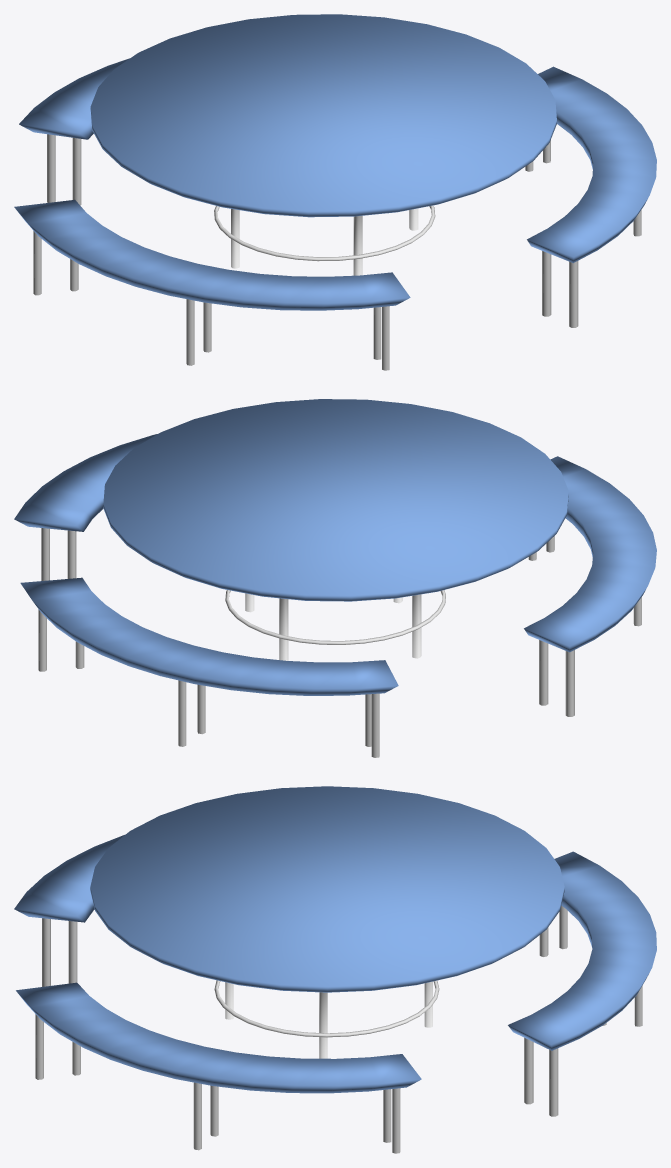
The model's file is Patio_Mesa.fbx.
The picture shows the model from 3 angles, top to bottom: view 1: azimuth 30°, elevation 25°; view 2: azimuth 150°, elevation 25°; view 3: azimuth 270°, elevation 25°; orthographic projection.
Visible parts, largest first — view 1: Patio_Mesa; view 2: Patio_Mesa; view 3: Patio_Mesa.
Part boxes in pixels (<box>): Patio_Mesa: <box>14,14,656,370</box>; Patio_Mesa: <box>14,399,656,757</box>; Patio_Mesa: <box>14,786,656,1153</box>.
Size of the model in its own units: 1398 by 320 by 1350.
